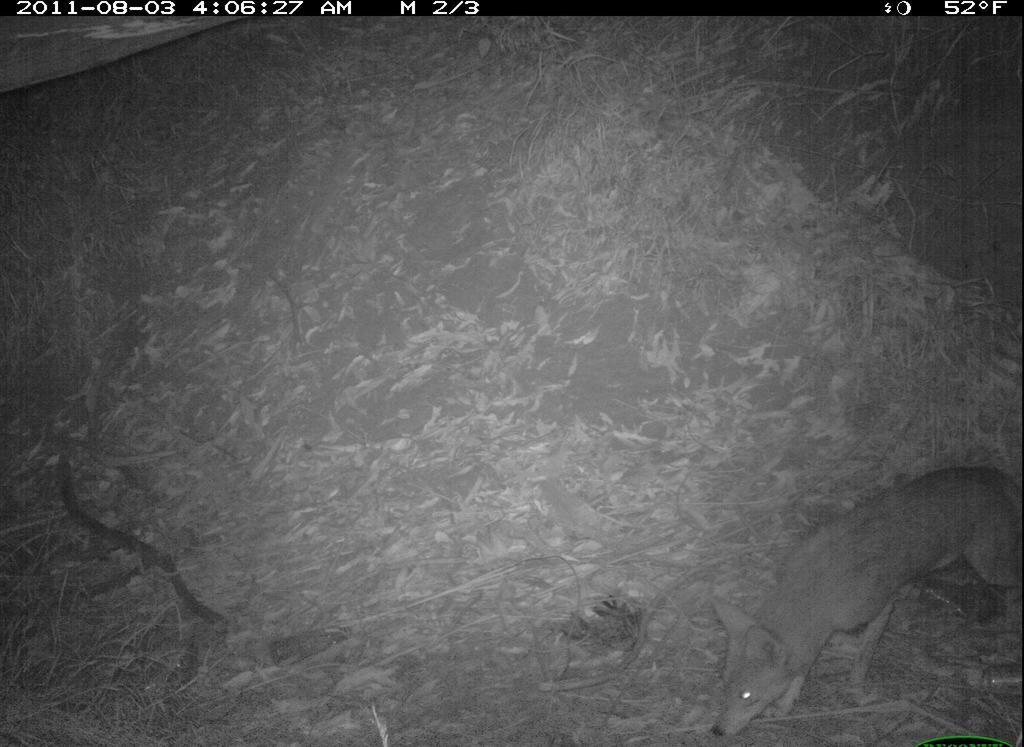coyote: (701, 454, 1023, 747)
